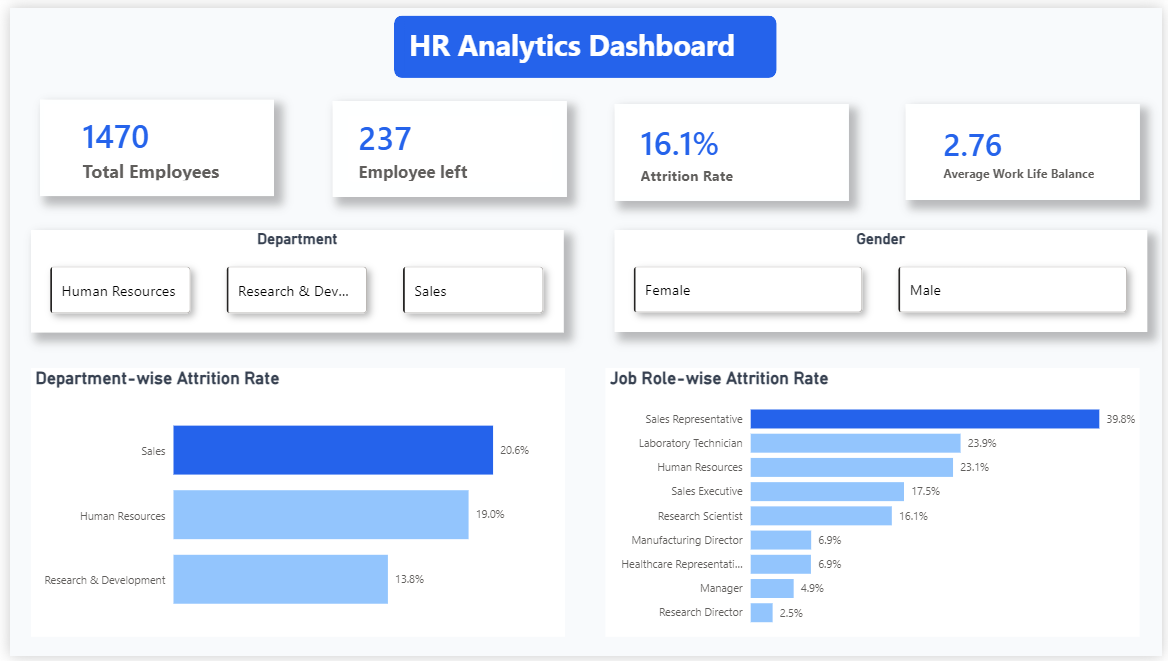

What the dashboard file says about the page in this screenshot:
{"tool":"powerbi","page":{"name":"Executive Overview","canvas":[1280,720],"ordinal":0},"visuals":[{"type":"group","id":"g1","title":"Group 1","box":[426,8,426,70],"z":0},{"type":"shape","box":[426,8,425.2,69.5],"z":0,"group":"g1"},{"type":"cardVisual","fields":{"Data":["HR_Employee_Attrition.Total Employees"]},"box":[33.3,101.7,260,107.1],"z":0,"group":"g2"},{"type":"textbox","box":[437.3,13.5,411,57.3],"z":1000,"group":"g1"},{"type":"group","id":"g2","title":"Group 2","box":[33.3,101.7,1222.2,112.4],"z":1000},{"type":"cardVisual","fields":{"Data":["HR_Employee_Attrition.Employee left"]},"box":[357.7,103.9,260,106.7],"z":1000,"group":"g2"},{"type":"cardVisual","fields":{"Data":["HR_Employee_Attrition.Attrition Rate"]},"box":[672,107.1,260,107],"z":2000,"group":"g2"},{"type":"advancedSlicerVisual","fields":{"Values":["HR_Employee_Attrition.Department"]},"box":[24,246,592,114],"z":2000},{"type":"cardVisual","fields":{"Data":["HR_Employee_Attrition.Average Work Life Balance"]},"box":[995.5,107,260,106.7],"z":3000,"group":"g2"},{"type":"advancedSlicerVisual","fields":{"Values":["HR_Employee_Attrition.Gender"]},"box":[671.7,246.7,591.7,113.3],"z":3000},{"type":"barChart","title":"Department-wise Attrition Rate","fields":{"Category":["HR_Employee_Attrition.Department"],"Y":["HR_Employee_Attrition.Attrition Rate"]},"box":[23.3,400,593.3,298.3],"z":4000},{"type":"clusteredBarChart","title":"Job Role-wise Attrition Rate","fields":{"Category":["HR_Employee_Attrition.JobRole"],"Y":["HR_Employee_Attrition.Attrition Rate"]},"box":[661.7,400,593.3,298.3],"z":5000}]}

Visuals, with their boxes in screenshot pixels (x1, y1, x2, y2), scaled from the page's 1280x720 canvas onto the 1168x661 screenshot:
"Group 1" group: rect(389, 7, 777, 72)
shape: rect(389, 7, 777, 71)
cardVisual - HR_Employee_Attrition.Total Employees: rect(30, 93, 268, 192)
textbox: rect(399, 12, 774, 65)
"Group 2" group: rect(30, 93, 1146, 197)
cardVisual - HR_Employee_Attrition.Employee left: rect(326, 95, 564, 193)
cardVisual - HR_Employee_Attrition.Attrition Rate: rect(613, 98, 850, 197)
advancedSlicerVisual - HR_Employee_Attrition.Department: rect(22, 226, 562, 330)
cardVisual - HR_Employee_Attrition.Average Work Life Balance: rect(908, 98, 1146, 196)
advancedSlicerVisual - HR_Employee_Attrition.Gender: rect(613, 226, 1153, 330)
"Department-wise Attrition Rate" barChart: rect(21, 367, 563, 641)
"Job Role-wise Attrition Rate" clusteredBarChart: rect(604, 367, 1145, 641)
